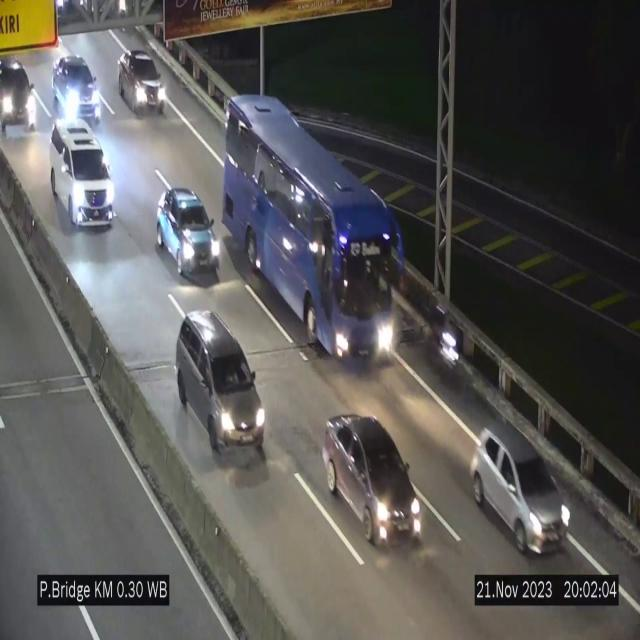Bus: (220, 91, 406, 367)
Car: (469, 418, 574, 556), (172, 302, 266, 455), (321, 408, 421, 550), (47, 116, 117, 236), (156, 184, 222, 287), (51, 54, 102, 120), (118, 51, 166, 114)
Motorcycle: (426, 300, 465, 388)
